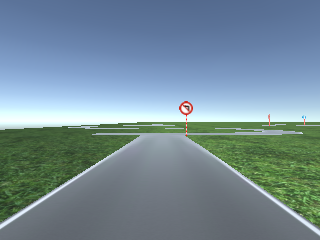0: (1, 183, 320, 239)
NoLeft: (177, 99, 195, 116)
